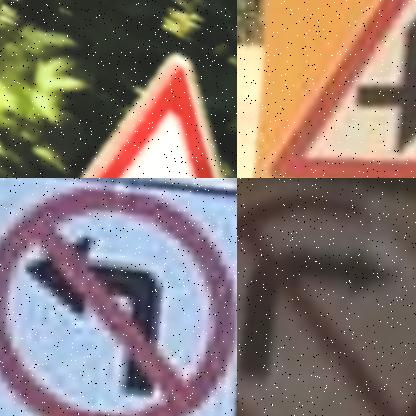Cross Roads: (259, 0, 416, 178)
No left turn: (0, 178, 237, 416)
No right turn: (237, 178, 416, 416)
U-Turn: (84, 47, 222, 178)
